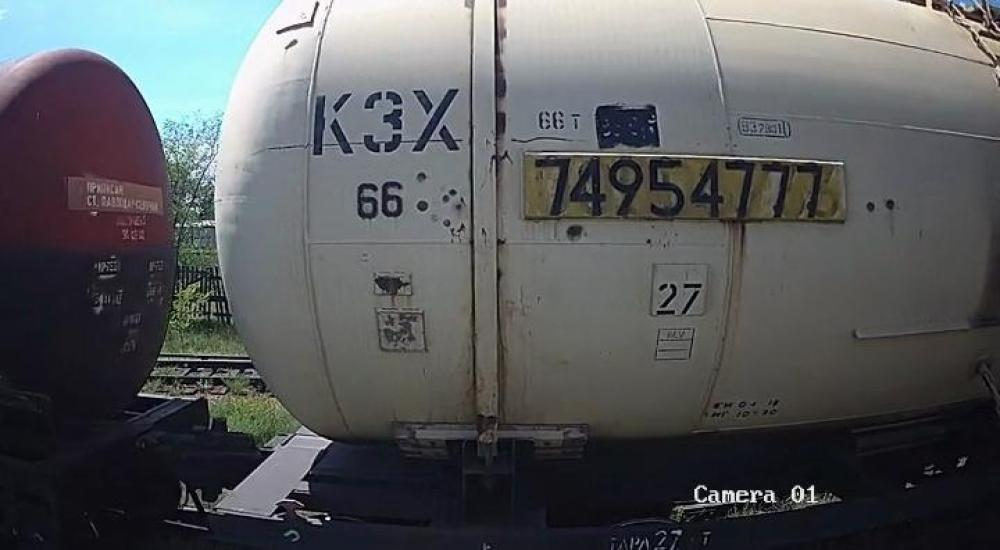Wagon-number: (523, 150, 845, 223)
